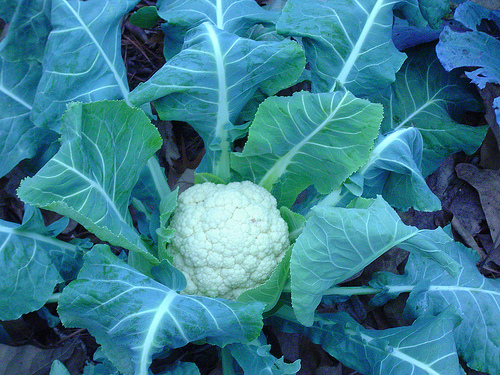cauliflower: (166, 182, 288, 297)
